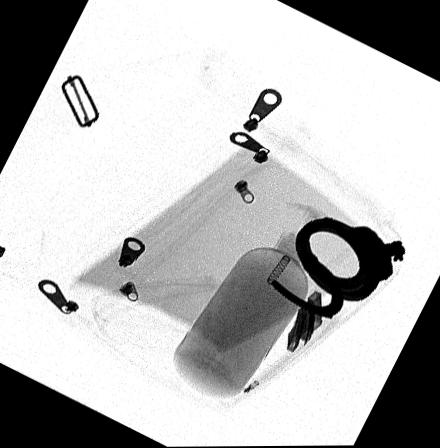HandCuffs: (269, 216, 406, 318)
